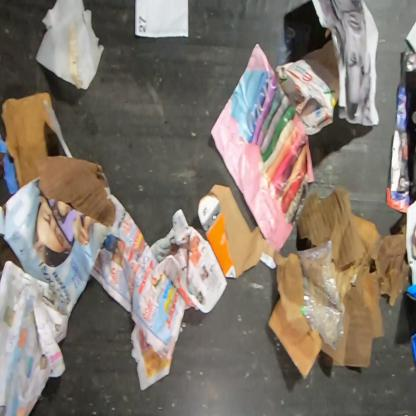cardboard: (267, 183, 410, 379), (198, 183, 276, 279), (0, 92, 74, 190), (34, 154, 116, 228), (405, 284, 415, 364)
soft_plastic: (276, 25, 297, 66)
